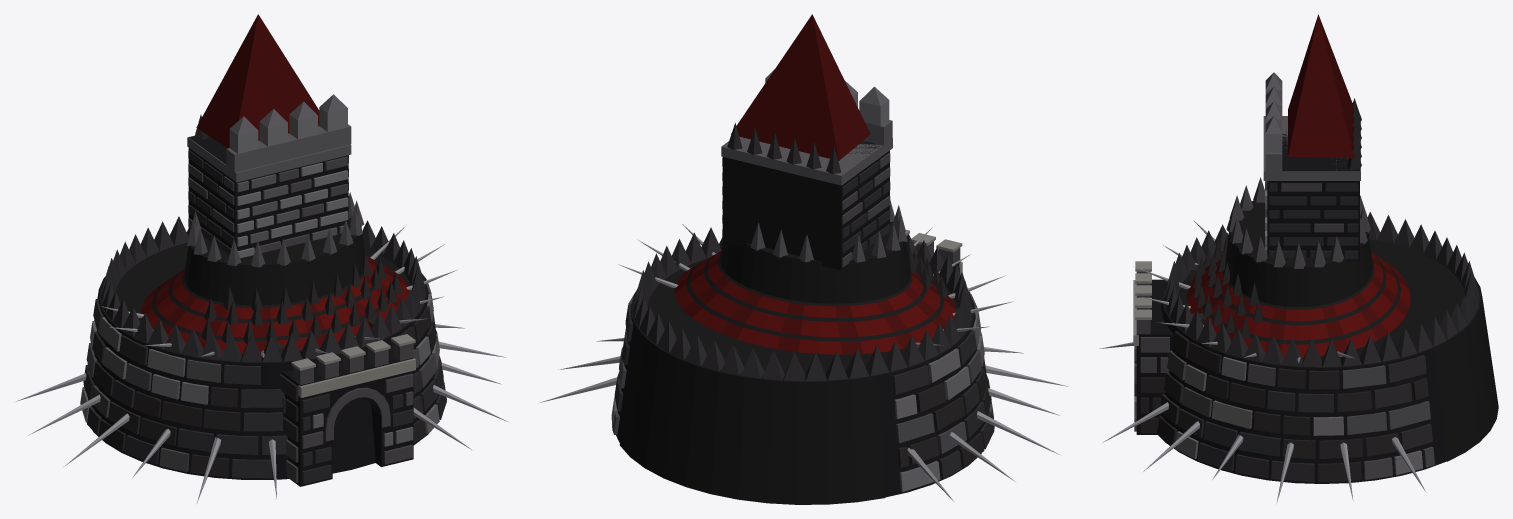
Rendered from TarTower02.glb.
The picture shows the model from 3 angles, left to right: view 1: azimuth 30°, elevation 25°; view 2: azimuth 150°, elevation 25°; view 3: azimuth 270°, elevation 25°; orthographic projection. The views are drawn at different scales.
Parts seen in each view (by area): view 1: TarTower02_joint; view 2: TarTower02_joint; view 3: TarTower02_joint.
Part boxes in pixels (bbox=[...]): TarTower02_joint: bbox=[16, 14, 507, 503]; TarTower02_joint: bbox=[539, 14, 1067, 504]; TarTower02_joint: bbox=[1099, 14, 1498, 502].
Bounding box in the file's own units: 11.01 × 9.3 × 8.65.
